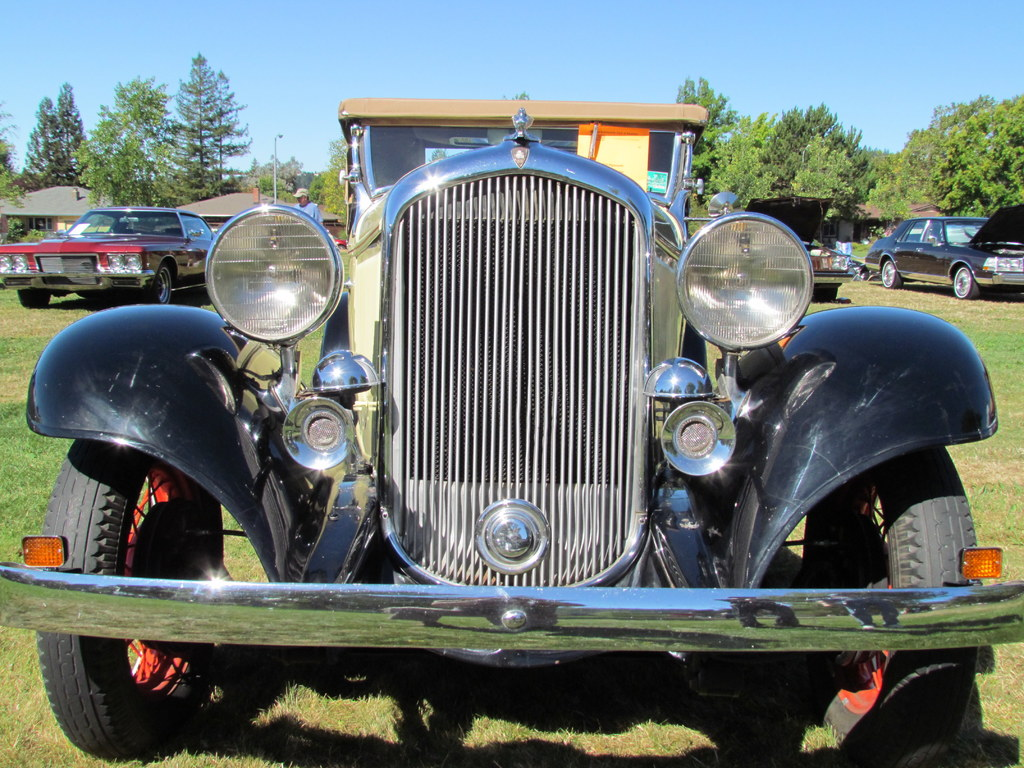Car: (0, 92, 1023, 750), (0, 206, 207, 302), (865, 195, 1023, 297), (744, 194, 851, 300)
